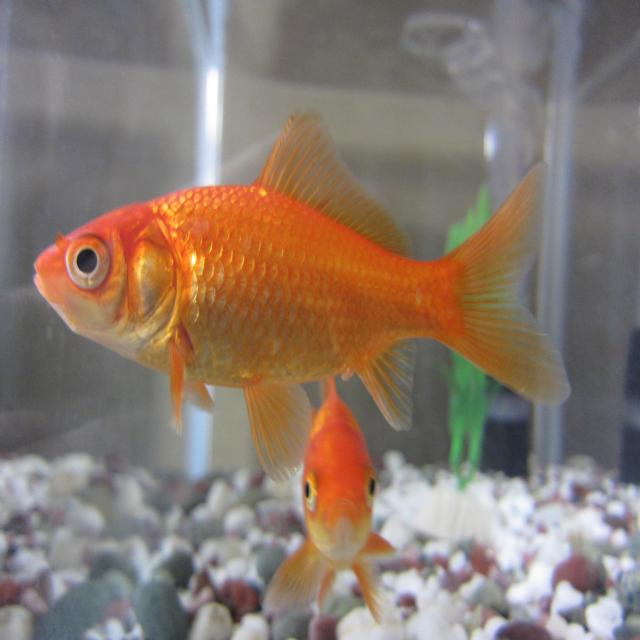GoldFish: (31, 105, 579, 457), (264, 377, 394, 634)
